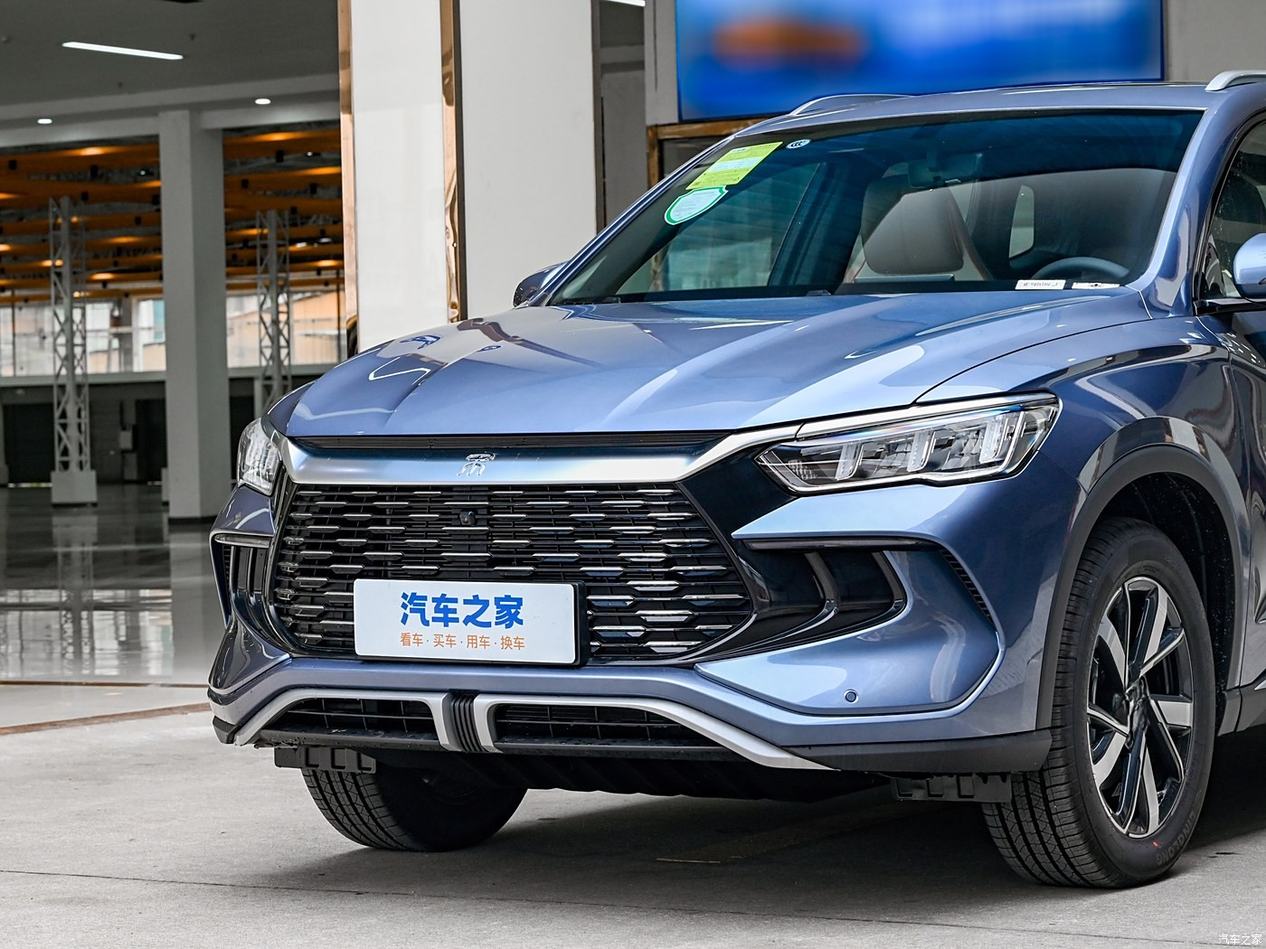BYD Song: (458, 451, 494, 475)
